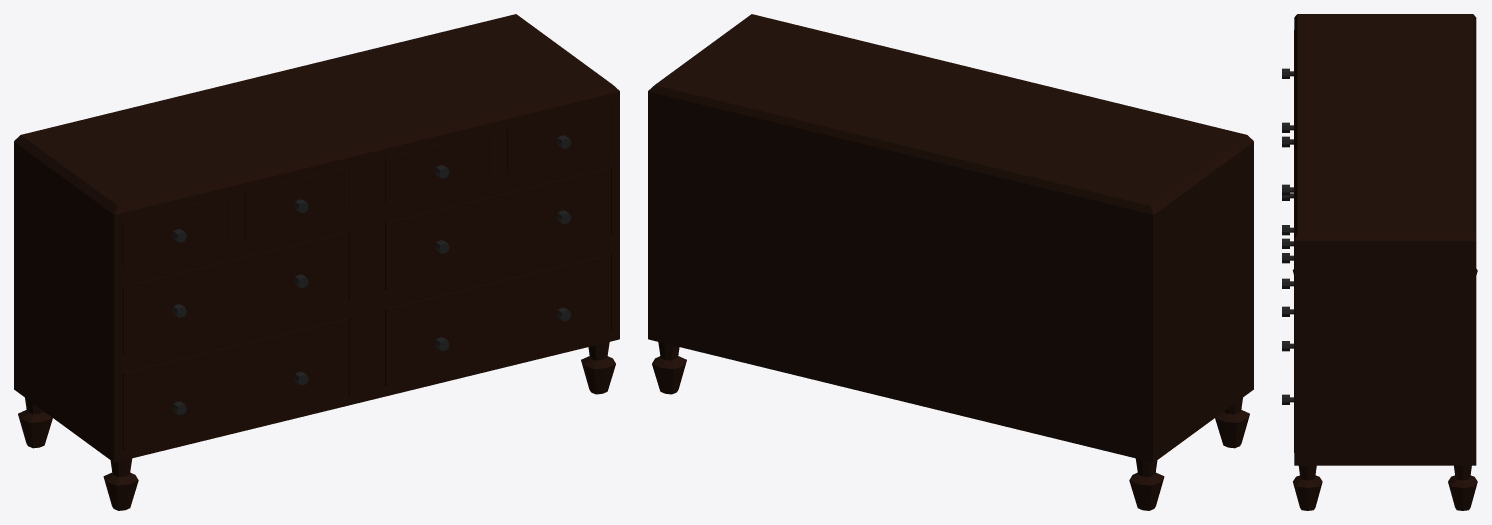
File: WideDresser1.obj
3 renders of one model, left to right at view 1: azimuth 30°, elevation 25°; view 2: azimuth 150°, elevation 25°; view 3: azimuth 270°, elevation 25°, orthographic. The views are drawn at different scales.
Visible parts, largest first — view 1: WideDresser1_Cube, Drawer4_WideDresser1_Cube.004, Drawer8_WideDresser1_Cube.008, Drawer3_WideDresser1_Cube.003, Drawer7_WideDresser1_Cube.007, Drawer1_WideDresser1_Cube.001, Drawer2_WideDresser1_Cube.002, Drawer5_WideDresser1_Cube.005, Drawer6_WideDresser1_Cube.006; view 2: WideDresser1_Cube; view 3: WideDresser1_Cube, Drawer8_WideDresser1_Cube.008, Drawer7_WideDresser1_Cube.007.
Part boxes in pixels (x1,y1,x2,y2): WideDresser1_Cube: (14, 14, 619, 510); Drawer4_WideDresser1_Cube.004: (122, 318, 348, 450); Drawer8_WideDresser1_Cube.008: (385, 254, 610, 386); Drawer3_WideDresser1_Cube.003: (122, 232, 348, 354); Drawer7_WideDresser1_Cube.007: (385, 168, 610, 290); Drawer1_WideDresser1_Cube.001: (122, 196, 227, 268); Drawer2_WideDresser1_Cube.002: (244, 166, 349, 238); Drawer5_WideDresser1_Cube.005: (385, 132, 489, 204); Drawer6_WideDresser1_Cube.006: (507, 102, 611, 174); WideDresser1_Cube: (648, 14, 1253, 510); WideDresser1_Cube: (1292, 14, 1477, 510); Drawer8_WideDresser1_Cube.008: (1282, 341, 1294, 452); Drawer7_WideDresser1_Cube.007: (1282, 253, 1294, 365).
Size of the model in its own units: 1.54 by 0.8952 by 0.5698.
